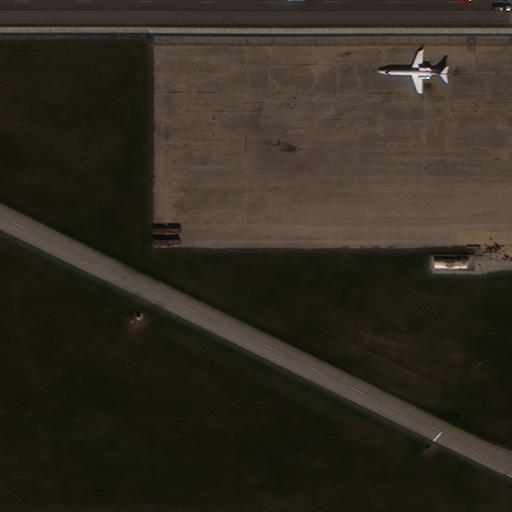Small Civil Transport: (377, 49, 449, 94)
